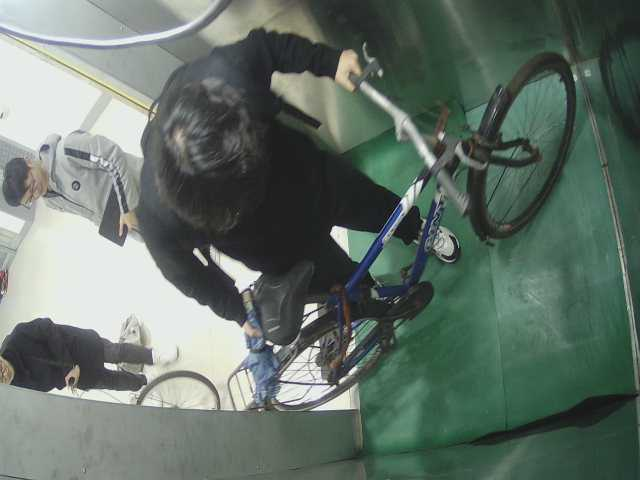bicycle: (263, 41, 580, 418)
person: (123, 29, 371, 276), (5, 127, 144, 247), (4, 312, 183, 398)
